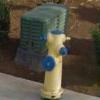a fire hydrant: (40, 27, 70, 100)
